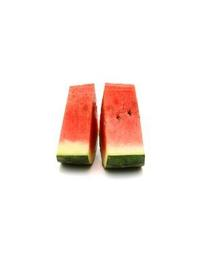watermelon: (56, 80, 147, 172)
